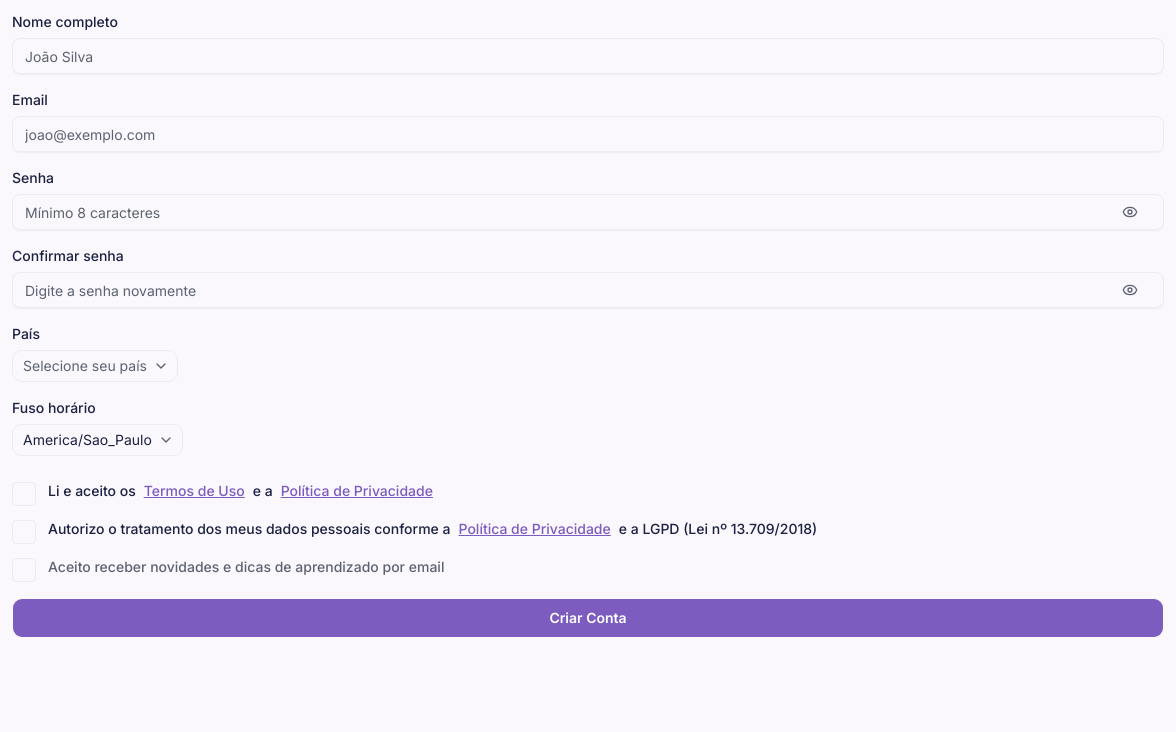
Test: RegisterForm › exibe medidor de força da senha ao digitar
Type "Abc123!@" into the password field labelled "Senha". click: (588, 212)
box: [12,194,1164,230]
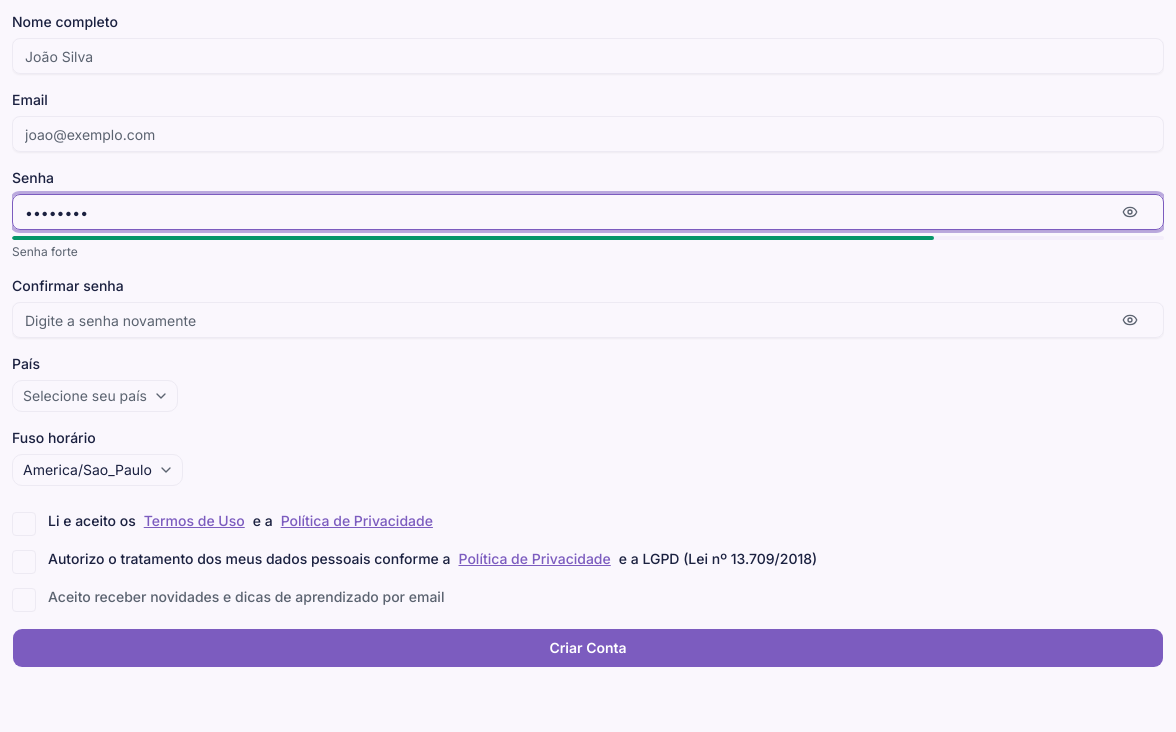
Now the text "Senha forte" is shown, box [12,244,78,259]
